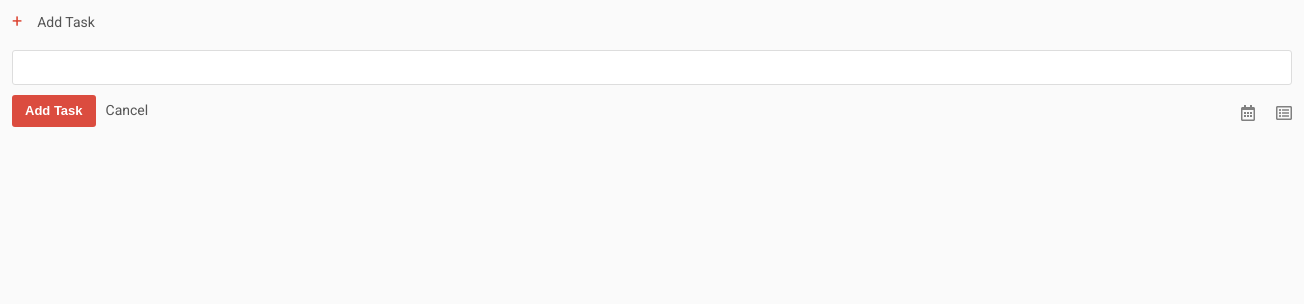
it: AddTask › should hide task date overlay when project icon is clicked
Click the button with test id "show-task-date-overlay" at (1248, 114), box [1240,105,1256,124]
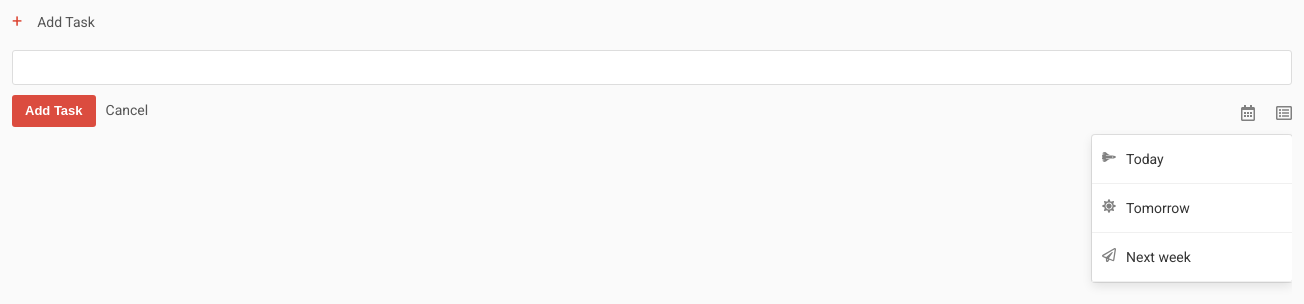
Check: the element with test id "task-date-overlay" is shown, box [1092,135,1292,282]
Click the button with test id "show-project-overlay" at (1284, 114), box [1276,105,1292,124]
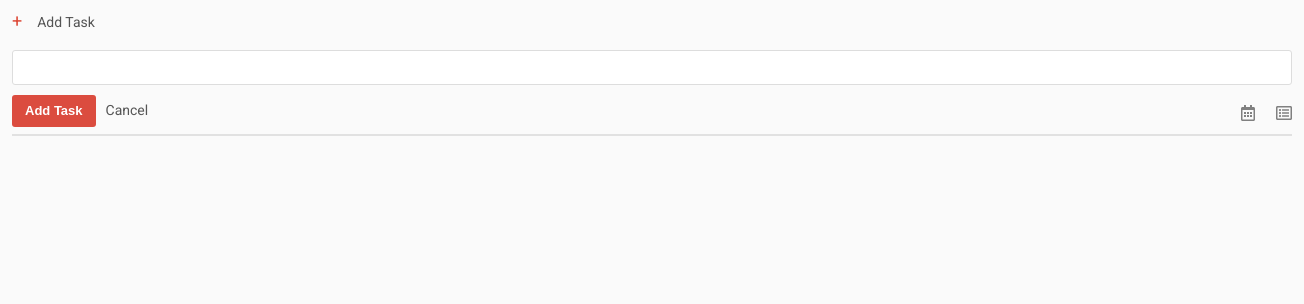
Check: the element with test id "task-date-overlay" is gone
